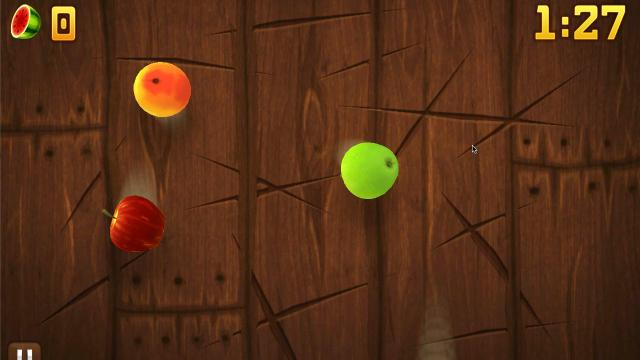fruit: (102, 192, 168, 254), (339, 141, 398, 199), (133, 61, 191, 117)
ignore: (9, 3, 43, 41)
